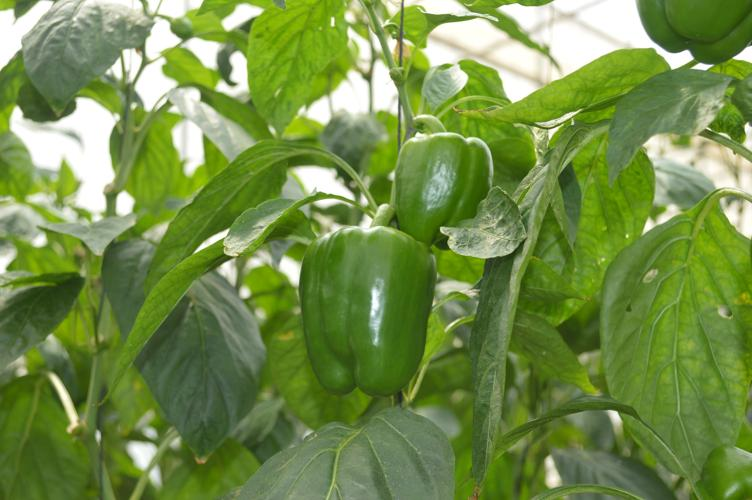BellPepper: (299, 226, 435, 396), (393, 134, 493, 239)
